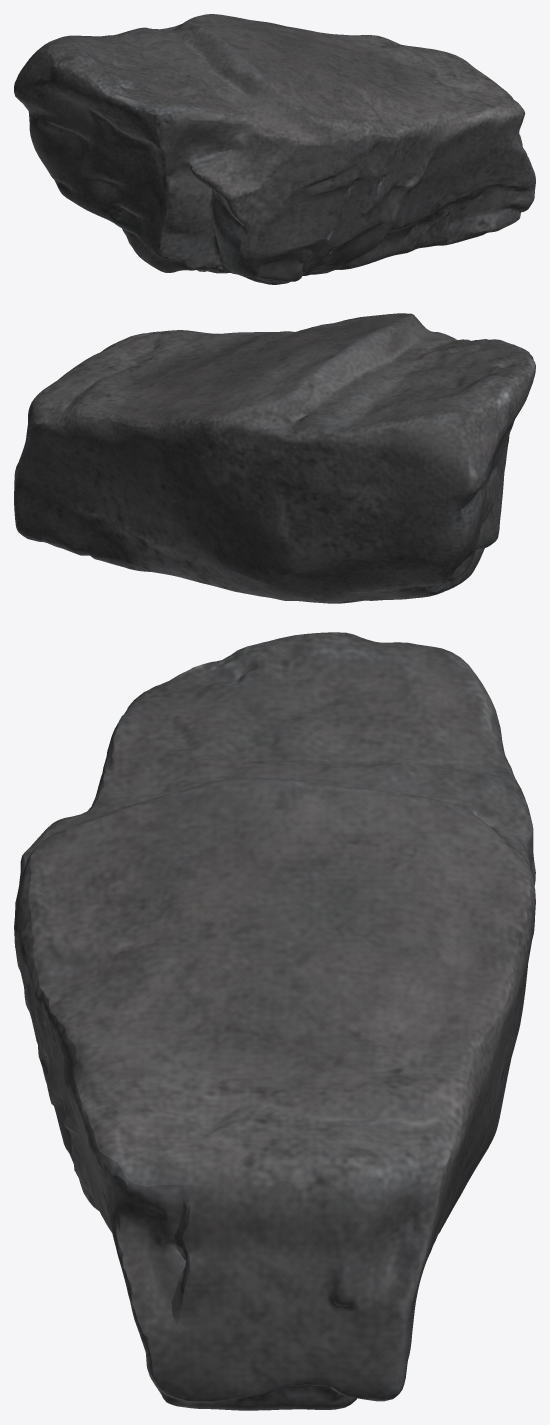
The picture shows the model from 3 angles, top to bottom: view 1: azimuth 30°, elevation 25°; view 2: azimuth 150°, elevation 25°; view 3: azimuth 270°, elevation 25°; orthographic projection. The views are drawn at different scales.
Parts seen in each view (by area): view 1: world; view 2: world; view 3: world.
Boxes of the visible parts, <box> form: world: <box>14,14,535,284</box>; world: <box>14,313,535,603</box>; world: <box>14,632,535,1410</box>.
Size of the model in its own units: 3.5 by 1.81 by 2.
1 material, 1 textured.
